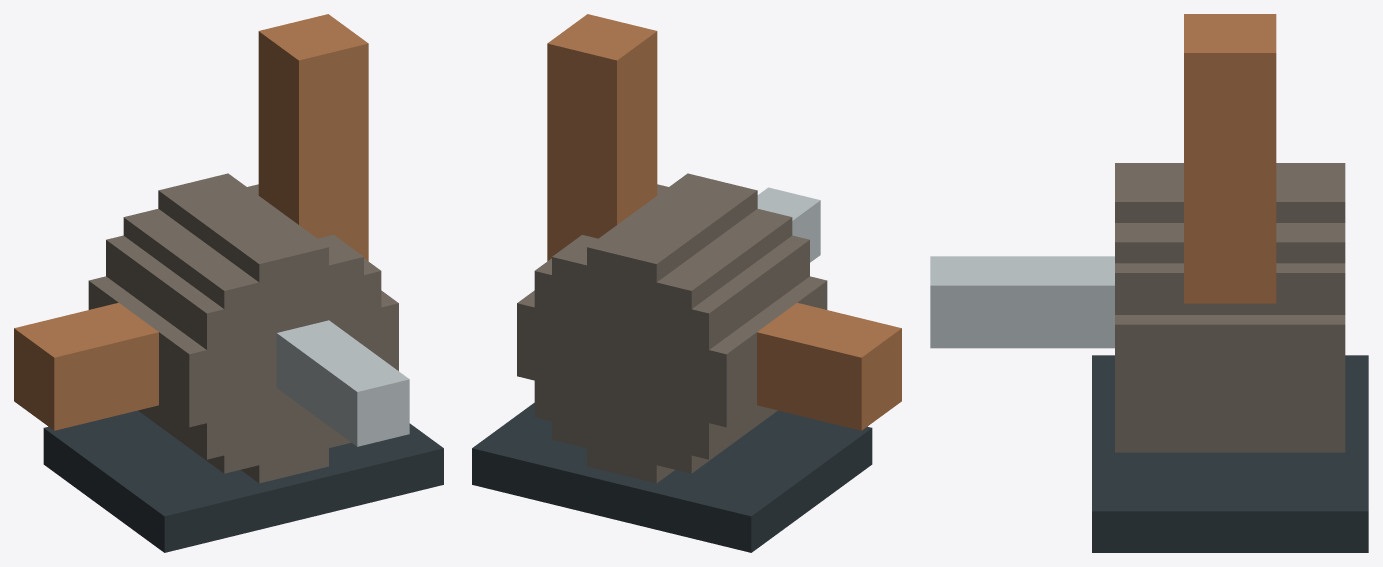
File: pump.glb
3 views of the same model, side by side, from view 1: azimuth 30°, elevation 25°; view 2: azimuth 150°, elevation 25°; view 3: azimuth 270°, elevation 25° (orthographic). The views are drawn at different scales.
Visible parts, largest first — view 1: pump/housing, pump/shaft; view 2: pump/housing, pump/shaft; view 3: pump/housing, pump/shaft.
Part boxes in pixels (x1,y1,x2,y2): pump/housing: (14,14,443,552); pump/shaft: (276,320,409,446); pump/housing: (472,14,901,552); pump/shaft: (757,187,820,262); pump/housing: (1092,14,1368,552); pump/shaft: (930,256,1114,348).
Bounding box in the file's own units: 0.625 × 0.7188 × 0.5938.
